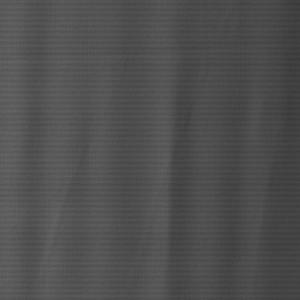Wrinkle: (144, 1, 292, 300), (1, 4, 99, 300)
